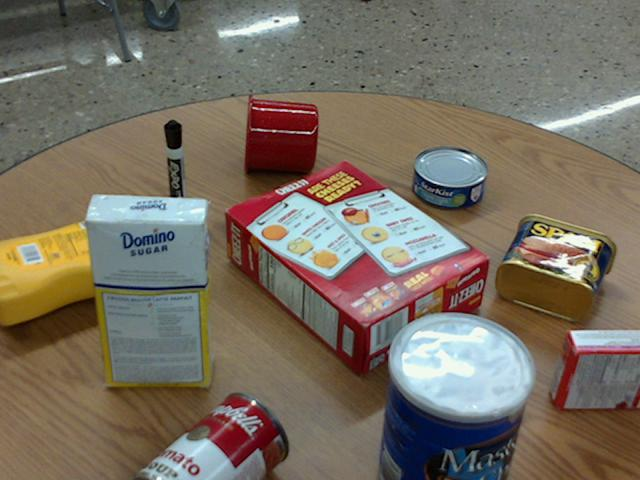cracker_box: (223, 161, 487, 369)
gelatin_box: (550, 329, 639, 409)
large_marker: (164, 120, 186, 221)
master_chef_can: (376, 313, 533, 479)
mug: (244, 94, 317, 173)
mustard_bottle: (0, 216, 182, 324)
potted_meat_can: (496, 213, 615, 321)
sugar_box: (84, 193, 209, 387)
tomato_soup_can: (134, 391, 288, 479)
tuna_fish_can: (412, 146, 487, 208)
